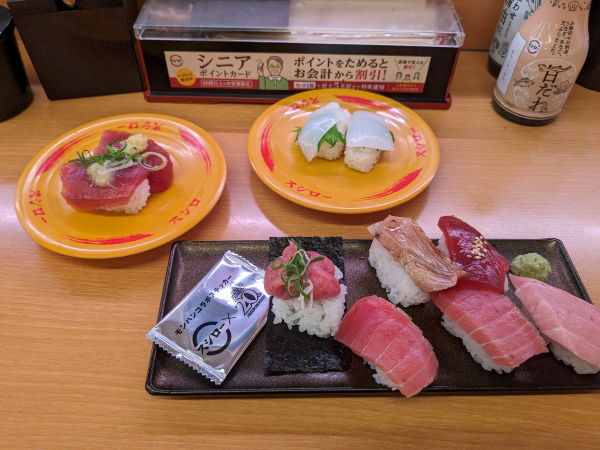ikanikan: (293, 102, 398, 174)
maguro: (343, 293, 438, 397), (60, 129, 173, 215), (516, 270, 600, 376), (444, 294, 548, 374), (365, 215, 453, 302), (267, 242, 344, 334), (442, 211, 512, 293)
